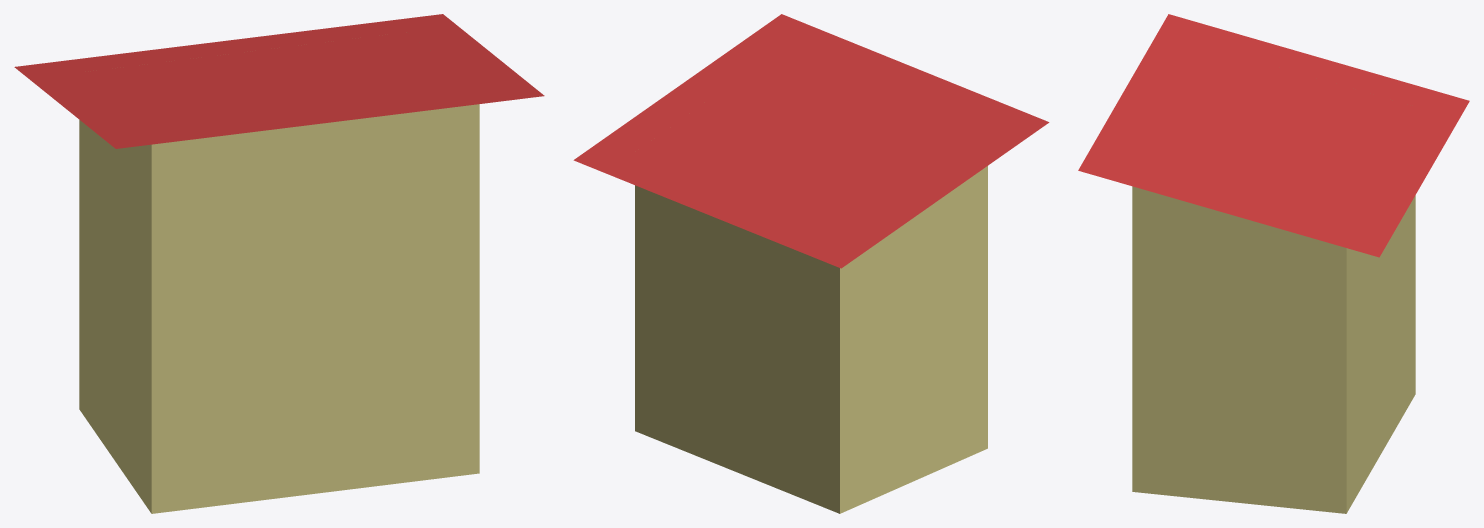
The picture shows the model from 3 angles, left to right: view 1: azimuth 30°, elevation 25°; view 2: azimuth 150°, elevation 25°; view 3: azimuth 270°, elevation 25°; orthographic projection. The views are drawn at different scales.
Bounding box in the file's own units: 7.42 × 6.54 × 6.17.
